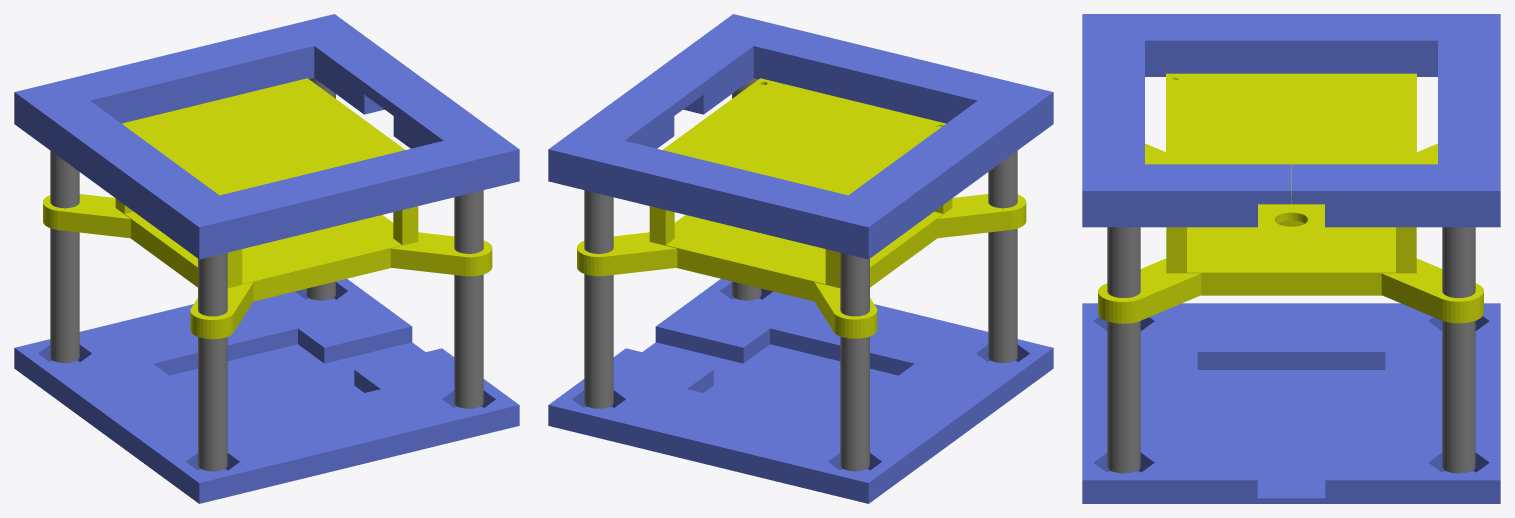
3 views of the same model, side by side, from view 1: azimuth 30°, elevation 25°; view 2: azimuth 150°, elevation 25°; view 3: azimuth 270°, elevation 25° (orthographic). The views are drawn at different scales.
Visible parts, largest first — view 1: Cube.001, Cube.005, Cube.004, Cube.002, Cylinder.007, Cylinder.004, Cylinder.006, Cylinder.005; view 2: Cube.001, Cube.005, Cube.004, Cube.002, Cylinder.006, Cylinder.005, Cylinder.007, Cylinder.004; view 3: Cube.001, Cube.005, Cube.004, Cube.002, Cylinder.005, Cylinder.004.
Boxes of the visible parts, x1,y1,x2,y2 form: Cube.001: (14, 279, 519, 503); Cube.005: (14, 14, 519, 259); Cube.004: (43, 194, 492, 339); Cube.002: (122, 78, 404, 195); Cylinder.007: (198, 252, 227, 471); Cylinder.004: (454, 190, 483, 408); Cylinder.006: (50, 151, 79, 362); Cylinder.005: (306, 78, 335, 300); Cube.001: (548, 279, 1053, 503); Cube.005: (548, 14, 1053, 259); Cube.004: (577, 194, 1026, 338); Cube.002: (663, 78, 945, 195); Cylinder.006: (840, 252, 869, 471); Cylinder.005: (584, 190, 613, 408); Cylinder.007: (988, 151, 1017, 362); Cylinder.004: (732, 78, 761, 300); Cube.001: (1082, 303, 1500, 503); Cube.005: (1082, 14, 1500, 227); Cube.004: (1098, 143, 1483, 323); Cube.002: (1166, 73, 1416, 202); Cylinder.005: (1442, 227, 1475, 473); Cylinder.004: (1107, 227, 1140, 473).
Bounding box in the file's own units: 10000 × 8253 × 10000.
